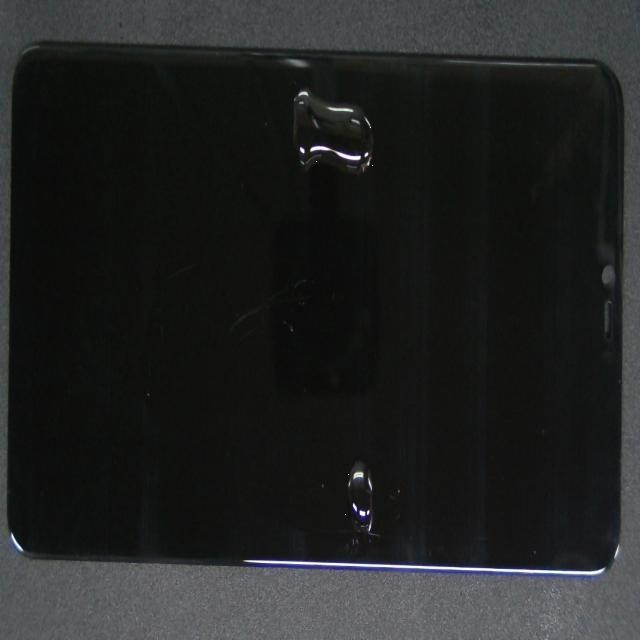oil: (169, 244, 508, 640), (199, 74, 550, 167)
